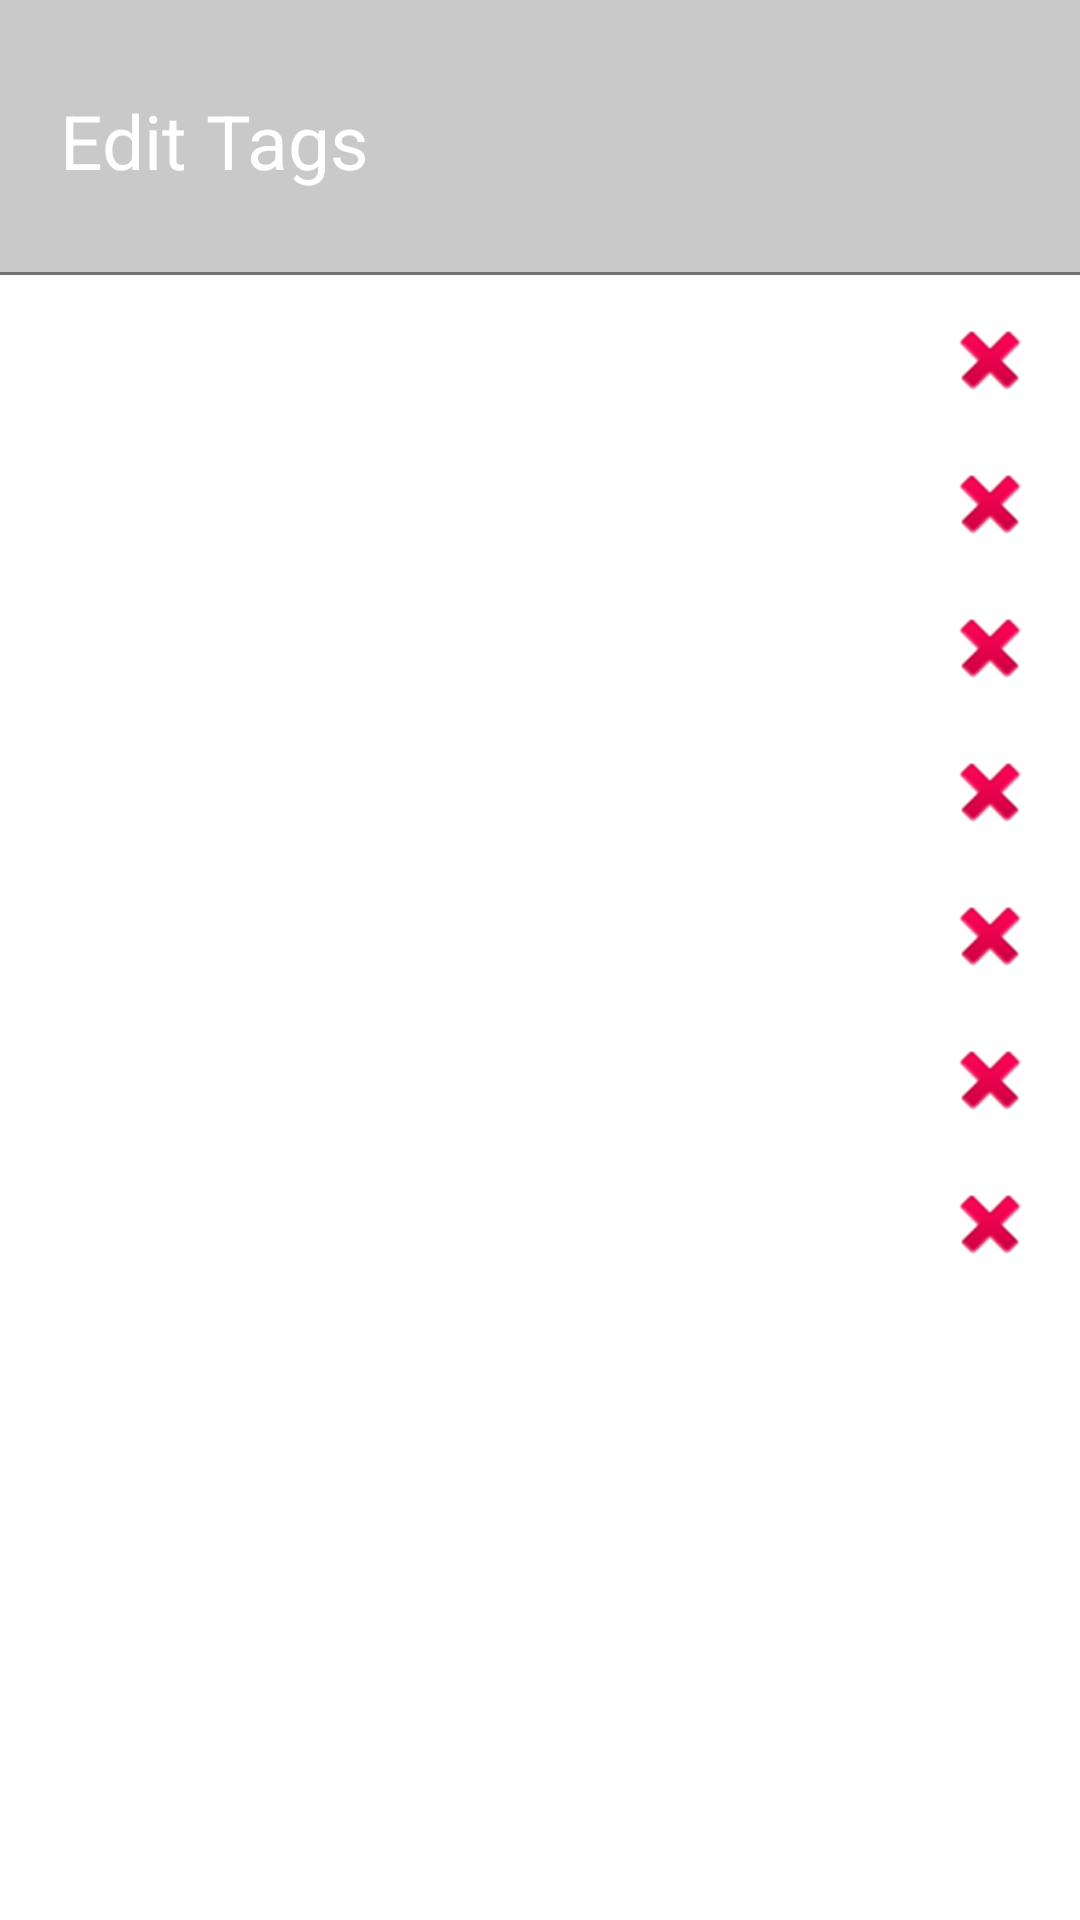

Where icons sit on this 1080*1920 app screen, as [x1,y1,x2,y2]:
delete: [959,331,1021,390], [959,475,1021,534], [959,619,1021,678], [959,763,1021,822], [959,907,1021,966], [959,1051,1021,1110], [959,1195,1021,1254]
